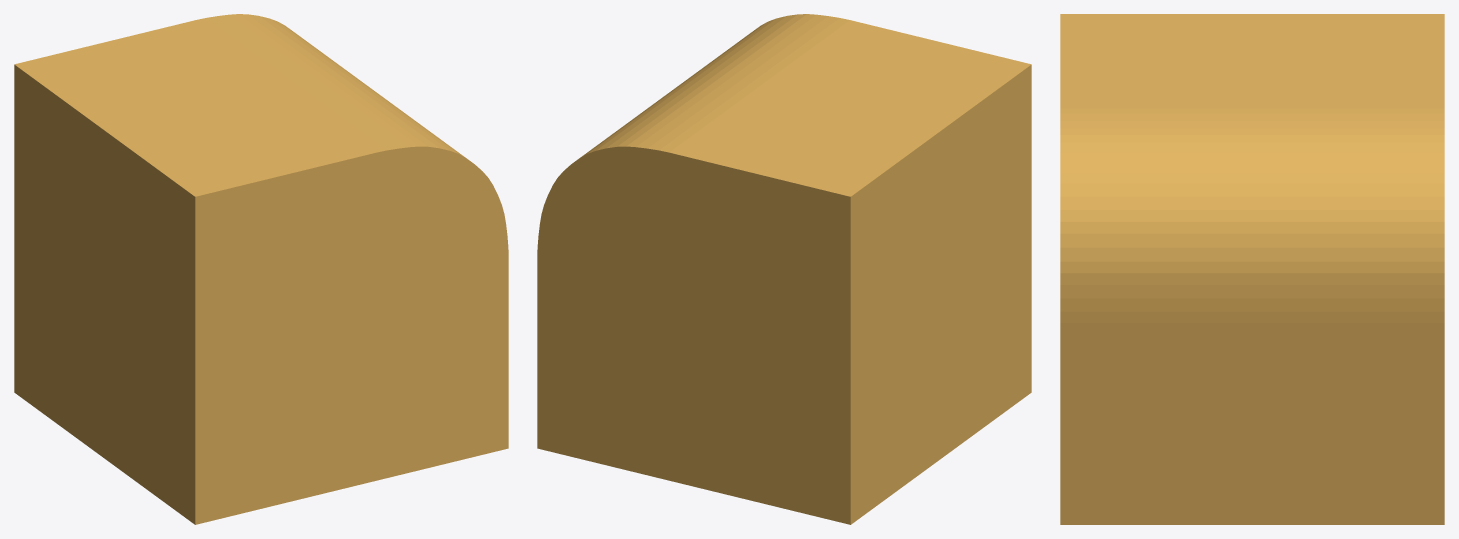
3 renders of one model, left to right at view 1: azimuth 30°, elevation 25°; view 2: azimuth 150°, elevation 25°; view 3: azimuth 270°, elevation 25°, orthographic. The views are drawn at different scales.
Parts seen in each view (by area): view 1: Cube; view 2: Cube; view 3: Cube.
Boxes of the visible parts, x1=… form: Cube: x1=14, y1=14, x2=508, y2=524; Cube: x1=537, y1=14, x2=1031, y2=524; Cube: x1=1060, y1=14, x2=1444, y2=524.
Bounding box in the file's own units: 100 × 100 × 100.
